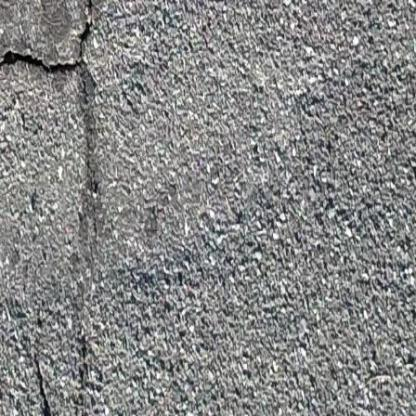Cracks: (70, 0, 119, 348), (0, 43, 99, 77)
